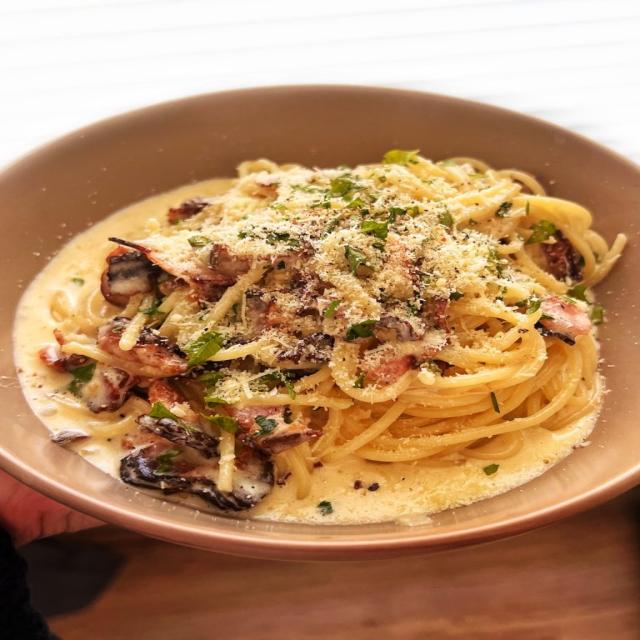pasta: (29, 138, 610, 514)
